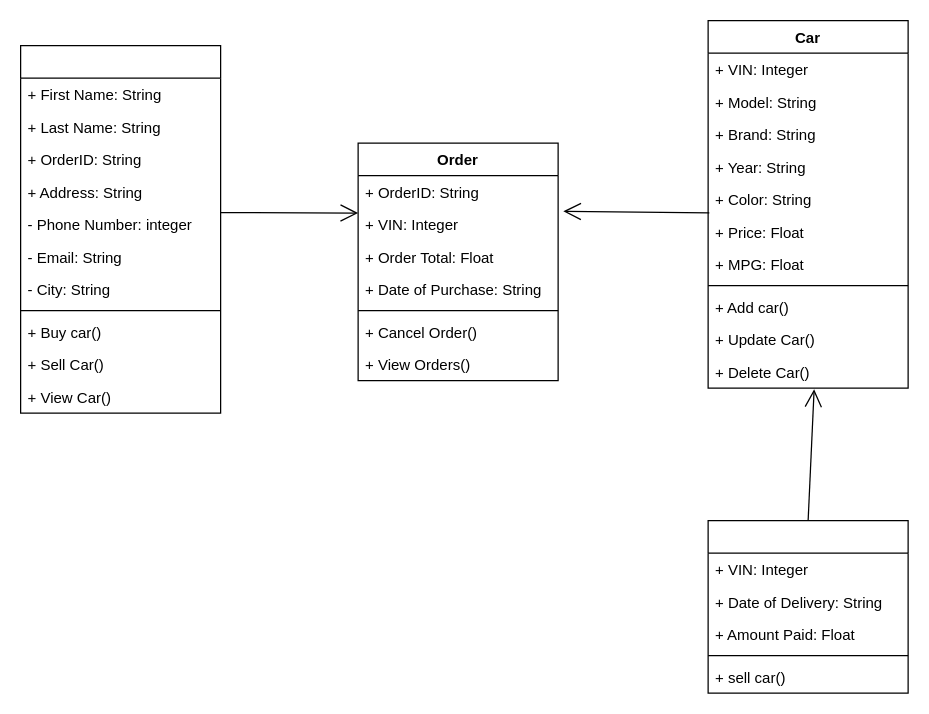
Some shapes in this 929 by 714 pixel diagram are drawn without their labels. Here are the shapes that lost their labels. From the top down, the box of each, then its label:
(19, 44, 221, 413): Customer
(707, 519, 908, 693): Supplier
